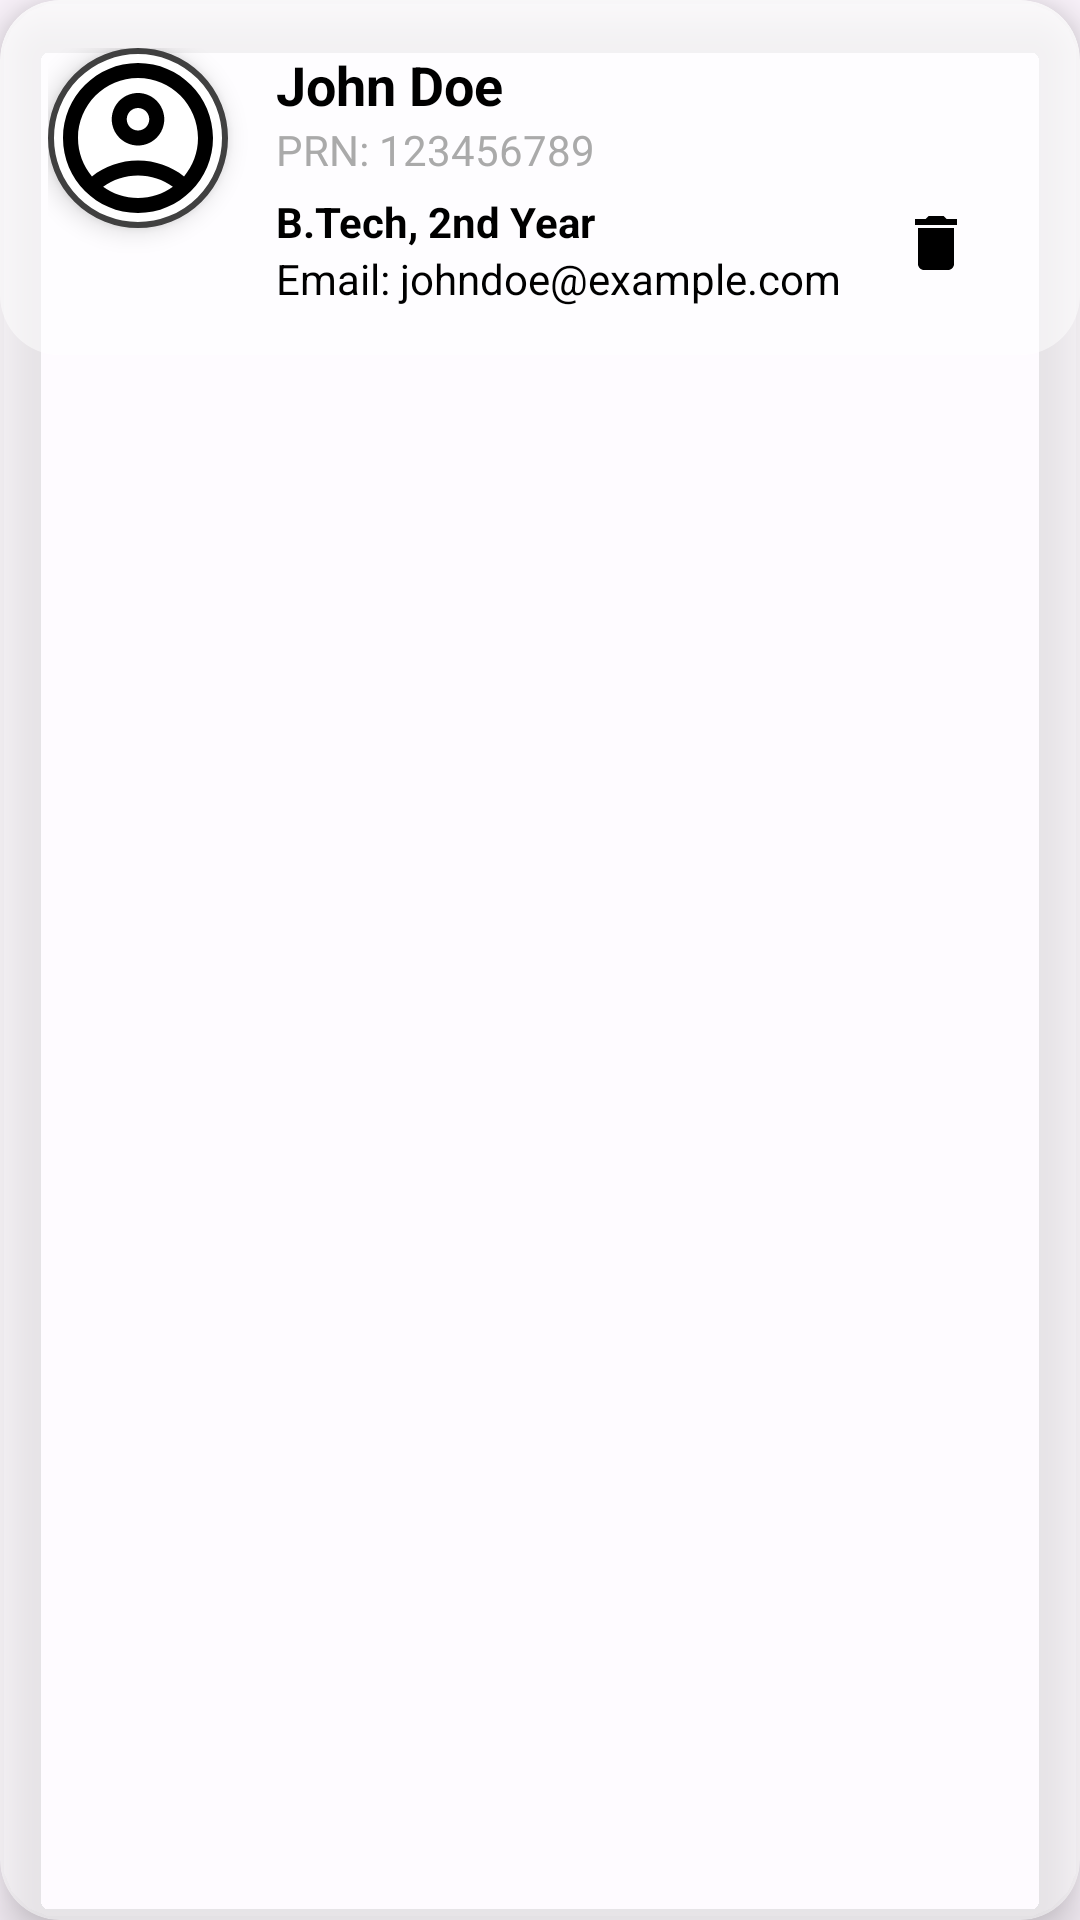

Where icons sit on this 1080 × 1920 app screen, as {"left": x1, "top": y1, "right": x2, "bottom": y2}:
delete: {"left": 915, "top": 216, "right": 957, "bottom": 270}
